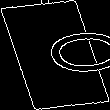O_W: (4, 29, 106, 81)
